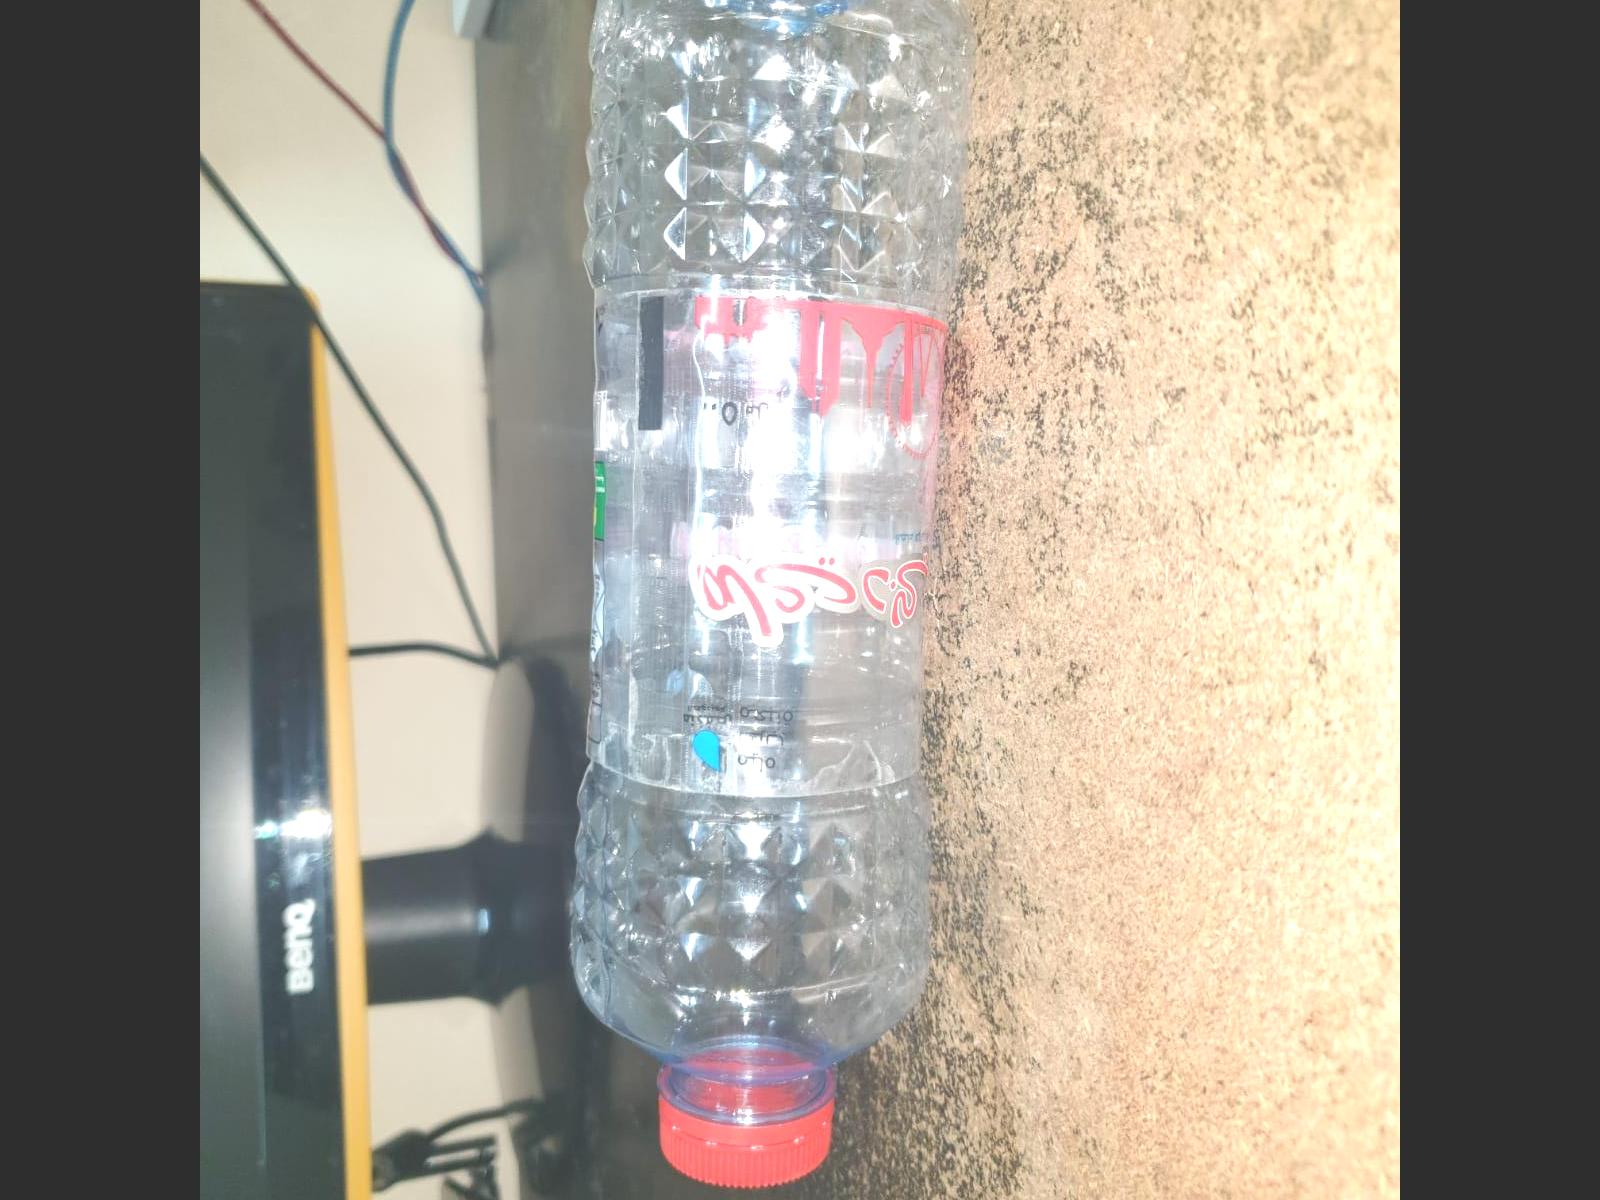bottle: (561, 0, 989, 1200)
